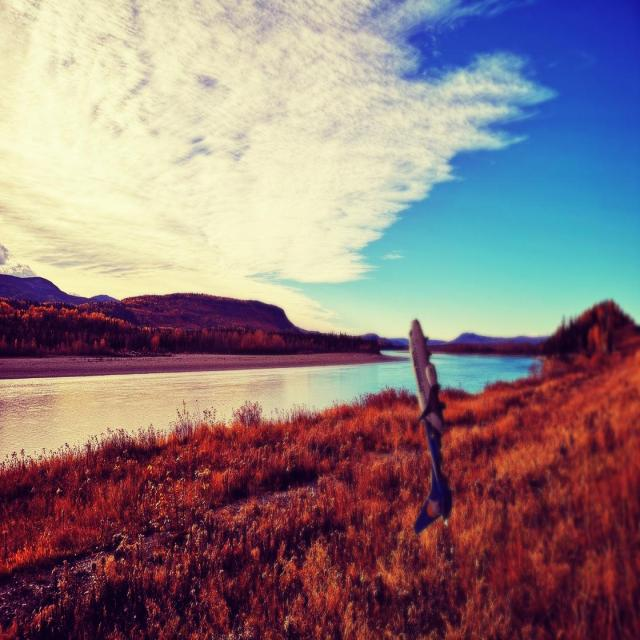airplane: (407, 318, 453, 535)
